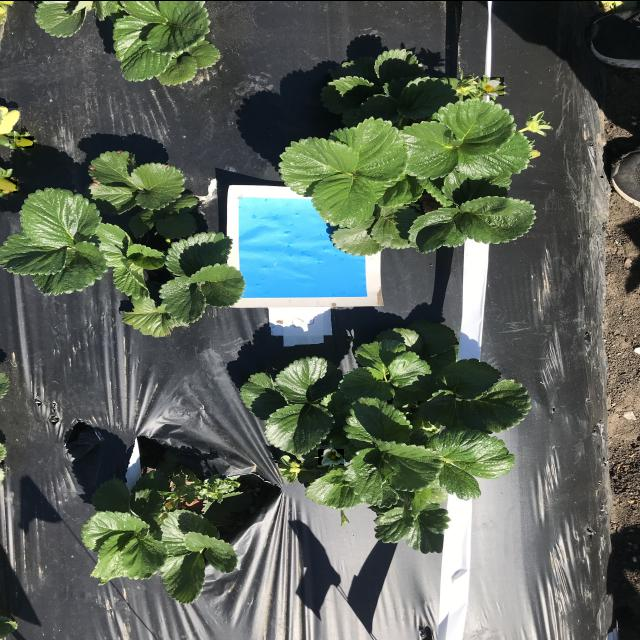Flower: (481, 75, 505, 95), (318, 447, 345, 464)
Green Strawberry: (0, 106, 22, 132), (0, 176, 18, 192), (15, 134, 35, 147)
